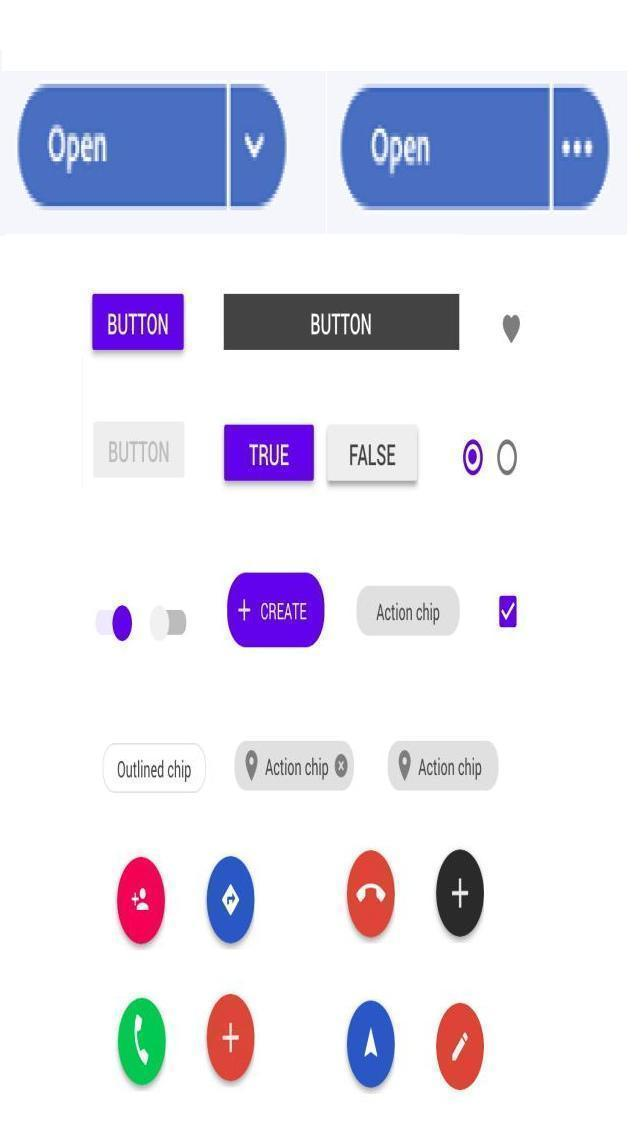Icon: (340, 999, 397, 1090), (431, 848, 487, 940), (206, 853, 257, 944), (116, 995, 168, 1083), (344, 850, 396, 936), (436, 1004, 486, 1092), (116, 856, 166, 944), (206, 993, 256, 1081), (94, 606, 135, 643), (151, 606, 189, 642), (498, 310, 524, 346)
TextButton: (340, 84, 612, 214), (20, 81, 289, 210), (220, 292, 460, 352), (226, 570, 325, 646), (233, 742, 357, 794), (323, 424, 421, 488), (384, 739, 502, 790), (88, 291, 188, 351), (91, 420, 187, 481), (100, 741, 208, 795), (356, 584, 462, 637), (91, 295, 185, 352), (222, 422, 313, 480), (224, 426, 316, 483), (495, 310, 528, 348), (459, 436, 486, 478), (495, 590, 521, 632), (495, 437, 520, 476)
